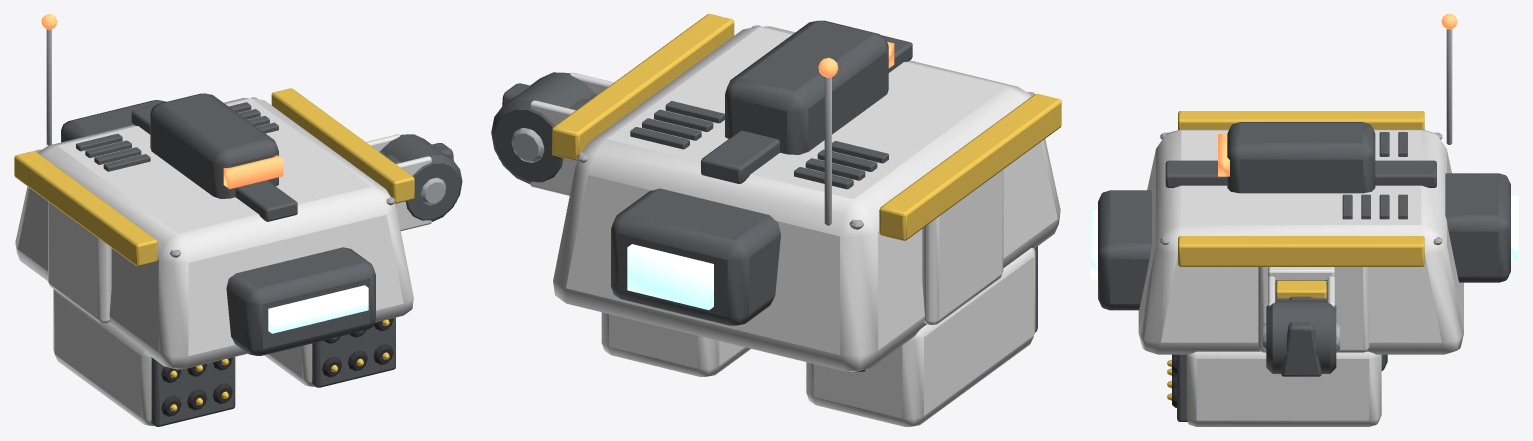
File: missile.glb
3 views of the same model, side by side, from view 1: azimuth 30°, elevation 25°; view 2: azimuth 150°, elevation 25°; view 3: azimuth 270°, elevation 25° (orthographic). The views are drawn at different scales.
Visible parts, largest first — view 1: Hull, Barrel, Turret, LegUpper; view 2: Hull, Barrel, Turret, LegUpper; view 3: Hull, Barrel, Turret, LegUpper, LegLower.
Boxes of the visible parts, x1,y1,x2,y2 form: Hull: (14,14,414,369); Barrel: (53,289,395,426); Turret: (150,93,283,198); LegUpper: (366,134,462,230); Hull: (552,14,1061,372); Barrel: (601,246,1037,426); Turret: (725,20,894,154); LegUpper: (491,72,613,195); Hull: (1090,14,1518,370); Barrel: (1167,351,1381,426); Turret: (1218,122,1375,193); LegUpper: (1263,267,1339,373); LegLower: (1276,280,1326,376).
Size of the model in its own units: 0.696 by 0.558 by 0.694.
